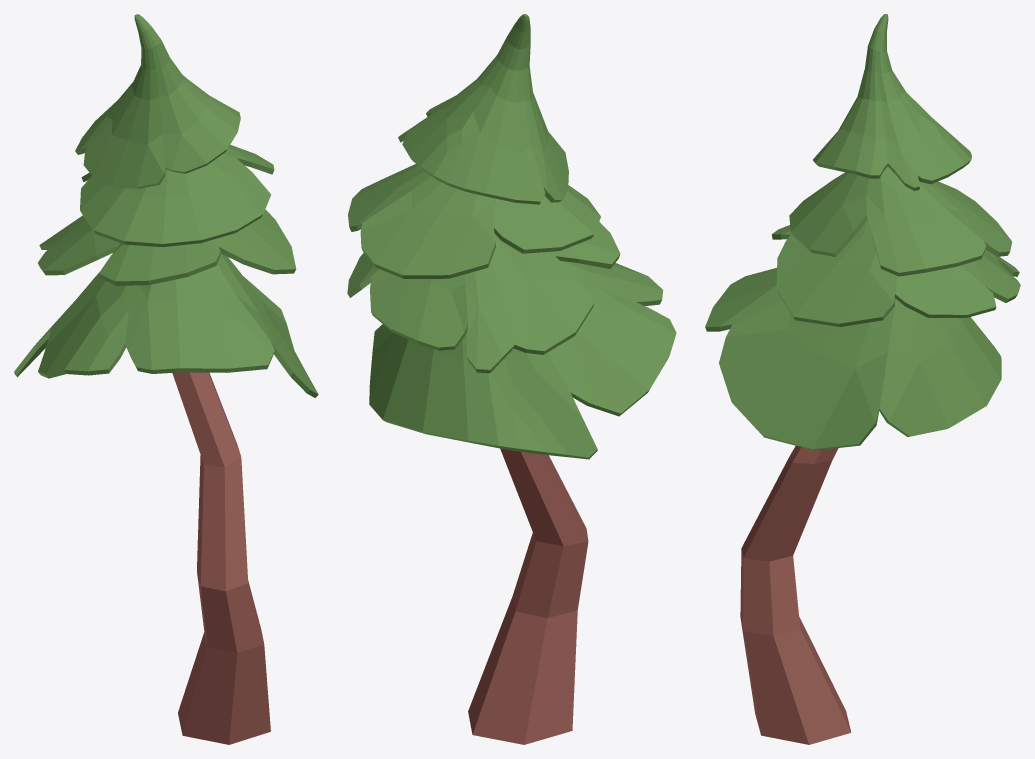
The model's file is PineTree_4.glb.
3 renders of one model, left to right at view 1: azimuth 30°, elevation 25°; view 2: azimuth 150°, elevation 25°; view 3: azimuth 270°, elevation 25°, orthographic. The views are drawn at different scales.
Visible parts, largest first — view 1: PineTree_4; view 2: PineTree_4; view 3: PineTree_4.
Boxes of the visible parts, x1,y1,x2,y2 form: PineTree_4: [14, 14, 318, 744]; PineTree_4: [347, 14, 676, 744]; PineTree_4: [705, 14, 1020, 744].
Bounding box in the file's own units: 125 × 334 × 139.
